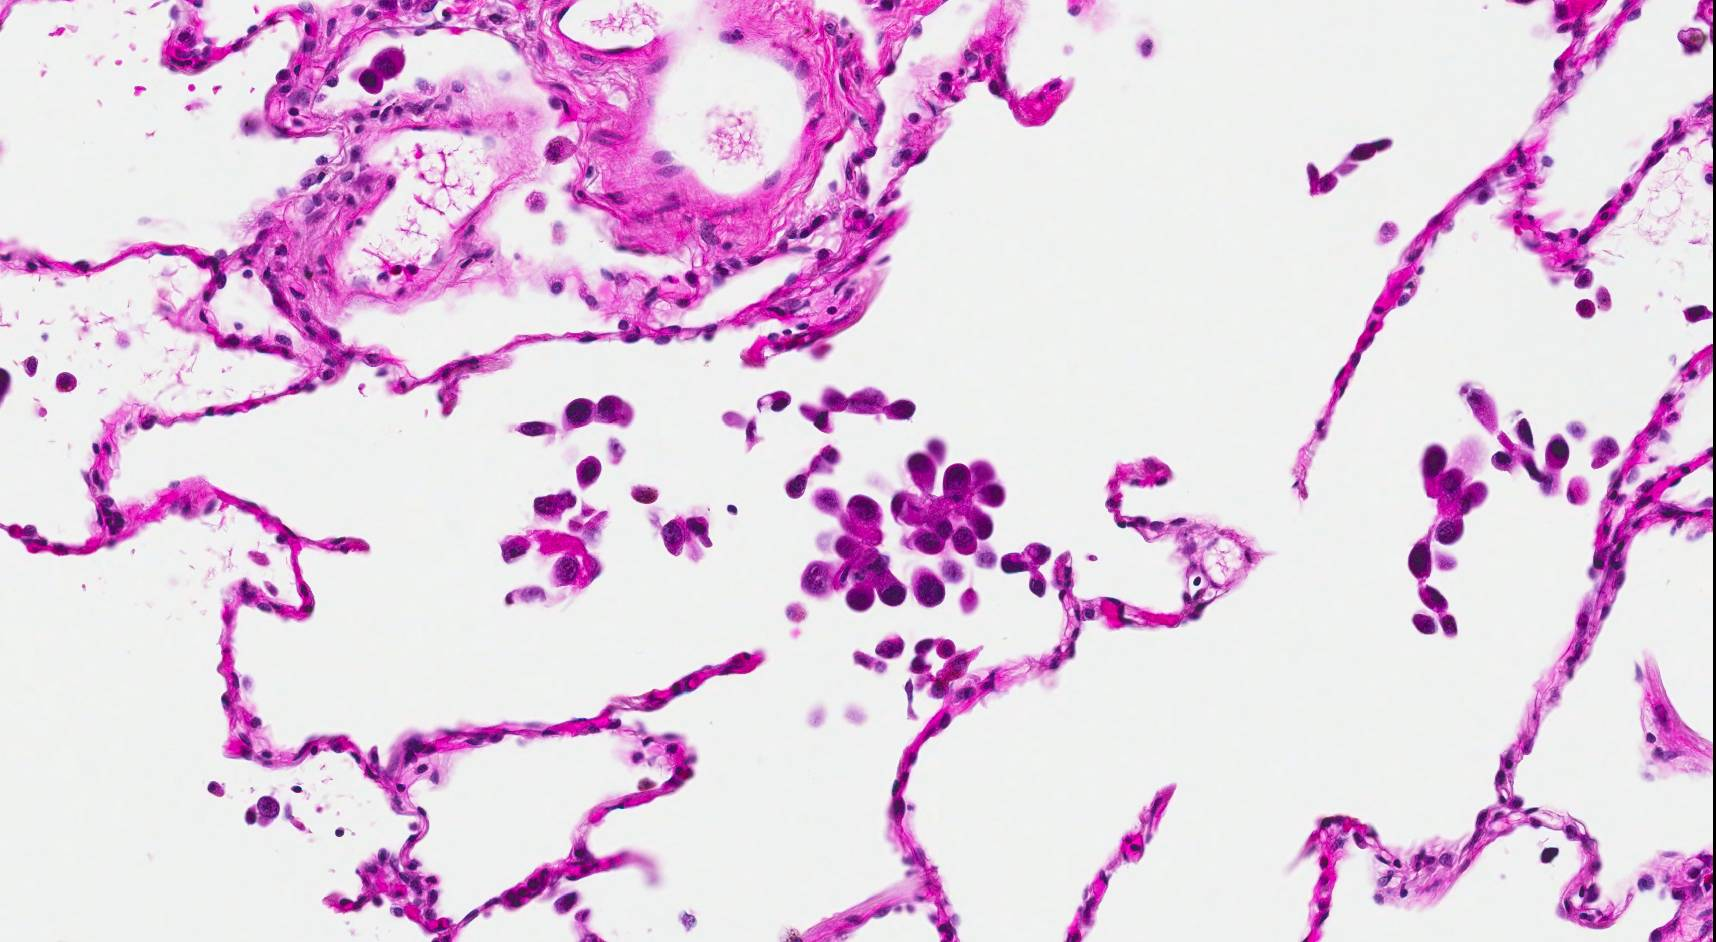stas: (1399, 379, 1623, 644), (803, 492, 946, 612), (497, 457, 610, 607), (891, 436, 1010, 559), (1301, 126, 1403, 203), (797, 384, 920, 432), (513, 393, 639, 439), (849, 626, 940, 677), (999, 538, 1053, 598), (651, 513, 718, 558)
